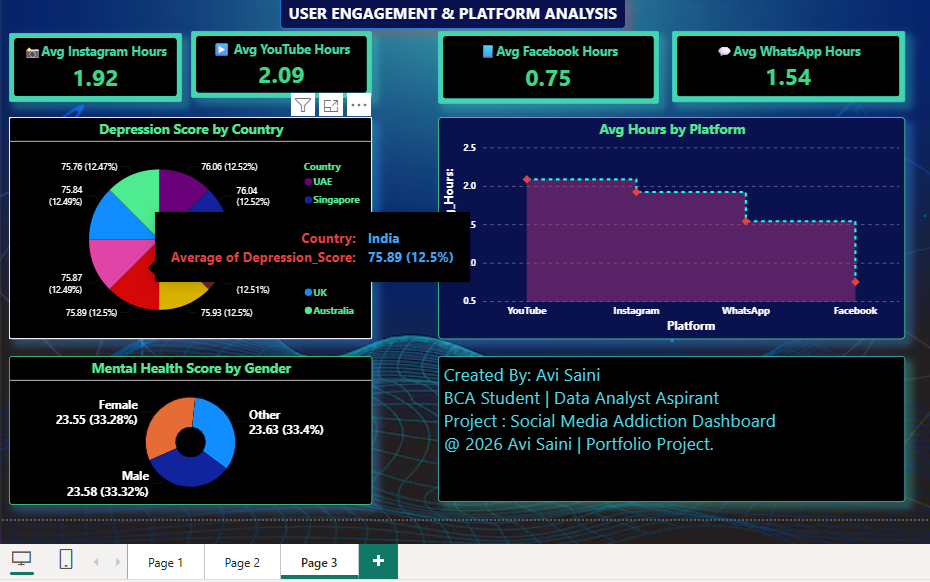

The page's visual inventory and layout, read from the dashboard file:
{"tool":"powerbi","page":{"name":"Page 3","canvas":[1280,720],"ordinal":2},"visuals":[{"type":"textbox","box":[385.4,0,476.2,45.4],"z":0},{"type":"cardVisual","fields":{"Data":["Avg(SocialMedia.Avg Instagram Hours)"]},"box":[12.4,50.9,238.1,95],"z":1000},{"type":"cardVisual","fields":{"Data":["Avg(SocialMedia.Avg Facebook Hours)"]},"box":[602.8,48.2,304.2,100.5],"z":2000},{"type":"cardVisual","fields":{"Data":["Avg(SocialMedia.Avg YouTube Hours)"]},"box":[262.9,48.2,249.1,92.2],"z":3000},{"type":"cardVisual","fields":{"Data":["Avg(SocialMedia.Avg WhatsApp Hours)"]},"box":[924.9,48.2,320.7,97.7],"z":4000},{"type":"textbox","box":[602.8,495.5,642.8,200.9],"z":4001},{"type":"lineChart","title":"Avg Hours by Platform","fields":{"Category":["Platform.Platform"],"Y":["SocialMedia.Platform Avg_Hours"]},"box":[602.8,166.5,642.8,305.5],"z":4004},{"type":"pieChart","title":"Depression Score by Country","fields":{"Category":["SocialMedia.Country"],"Y":["Avg(SocialMedia.Depression_Score)"]},"box":[12.4,166.5,499.6,305.5],"z":4005},{"type":"donutChart","title":"Mental Health Score by Gender","fields":{"Y":["Avg(SocialMedia.Mental_Health_Score)"],"Category":["SocialMedia.Gender"]},"box":[12.4,495.5,499.6,205.1],"z":4006}]}

Visuals, with their boxes in screenshot pixels (x1, y1, x2, y2):
textbox: (x1=279, y1=0, x2=620, y2=30)
cardVisual - Avg(SocialMedia.Avg Instagram Hours): (x1=11, y1=34, x2=182, y2=102)
cardVisual - Avg(SocialMedia.Avg Facebook Hours): (x1=434, y1=32, x2=652, y2=104)
cardVisual - Avg(SocialMedia.Avg YouTube Hours): (x1=191, y1=32, x2=369, y2=98)
cardVisual - Avg(SocialMedia.Avg WhatsApp Hours): (x1=665, y1=32, x2=895, y2=102)
textbox: (x1=434, y1=353, x2=895, y2=497)
"Avg Hours by Platform" lineChart: (x1=434, y1=117, x2=895, y2=336)
"Depression Score by Country" pieChart: (x1=11, y1=117, x2=369, y2=336)
"Mental Health Score by Gender" donutChart: (x1=11, y1=353, x2=369, y2=500)
